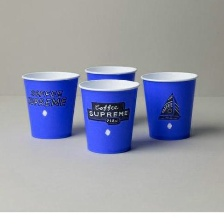paper_cup: (74, 76, 142, 156), (137, 67, 203, 144), (18, 67, 82, 141), (81, 62, 140, 84)
